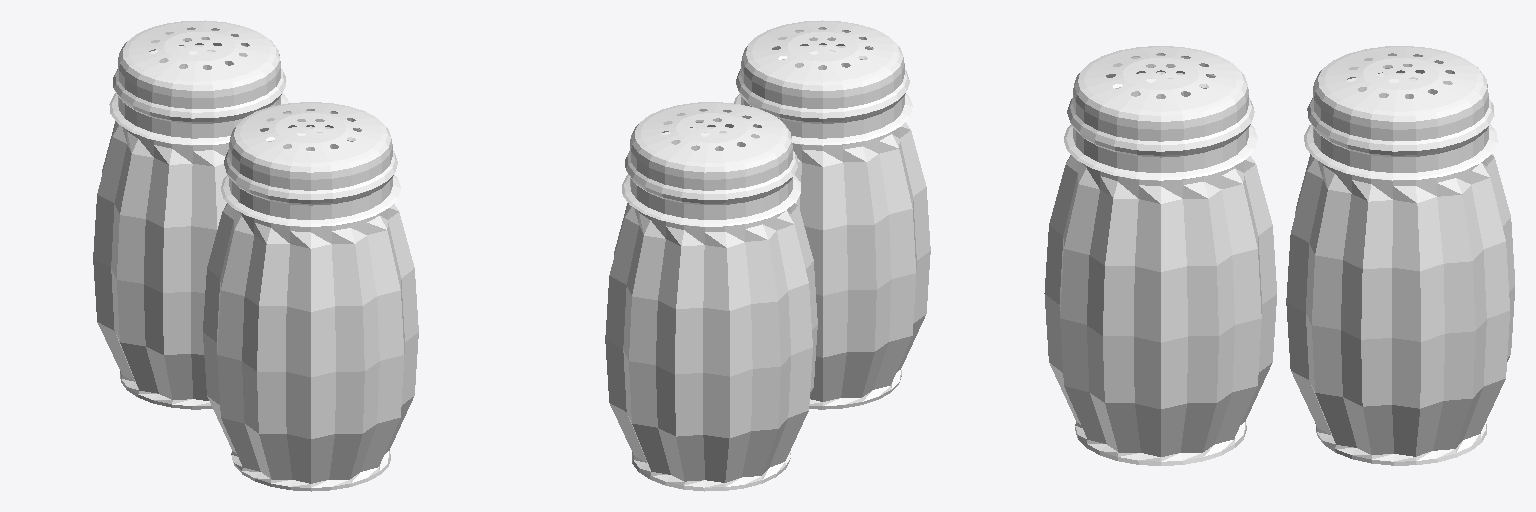
robot.urdf — model.urdf:
<?xml version="0.0" ?>
<robot name="model.urdf">
  <link name="baseLink">
    <contact>
      <friction_anchor/>
      <lateral_friction value="0.3"/>
      <rolling_friction value="0.0"/>
      <contact_cfm value="0.0"/>
      <contact_erp value="1.0"/>
    </contact>
    <inertial>
       <origin rpy="0 0 0" xyz="0 0 0"/>
       <mass value="0.1"/>
       <inertia ixx="8e-05" ixy="0" ixz="0" iyy="0.0002" iyz="0" izz="0.0002"/>
    </inertial>
    <visual>
      <geometry>
        <mesh filename="textured.dae" scale="1.0 1.0 1.0"/>
      </geometry>
      <material name="white">
        <color rgba="1. 1. 1. 1."/>
      </material>
    </visual>
    <collision>
      <geometry>
    	 <mesh filename="textured.dae" scale="1.0 1.0 1.0"/>
      </geometry>
    </collision>
  </link>
</robot>

--- Facts derived from the render (not from the file) ---
The picture shows the robot from 3 angles, left to right: view 1: azimuth 30°, elevation 25°; view 2: azimuth 150°, elevation 25°; view 3: azimuth 270°, elevation 25°; orthographic projection.
Robot: model.urdf — 1 links, 0 joints (none); root link baseLink; default pose: all joints at 0.
Links seen in each view (by area): view 1: baseLink; view 2: baseLink; view 3: baseLink.
Link boxes in pixels (x1,y1,x2,y2): baseLink: (93,20,418,491); baseLink: (605,20,930,491); baseLink: (1044,46,1514,465).
Bounding box of the posed robot: 2.07 × 4.18 × 3.49 m (x, y, z).
Meshes: 1 distinct files referenced, 1 mesh visuals loaded (1 Collada DAE).